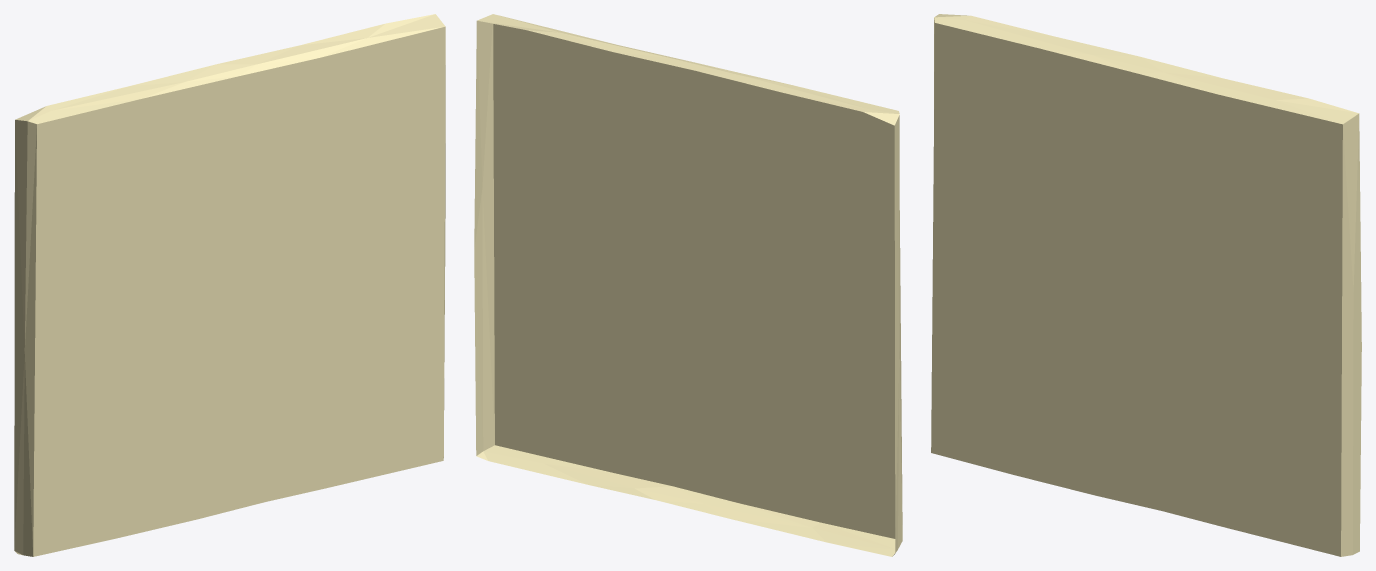
File: ui_button_slim_1x1.glb
The picture shows the model from 3 angles, left to right: view 1: azimuth 30°, elevation 25°; view 2: azimuth 150°, elevation 25°; view 3: azimuth 330°, elevation 25°; orthographic projection.
Parts seen in each view (by area): view 1: Cube; view 2: Cube; view 3: Cube.
Part boxes in pixels (x1,y1,x2,y2): Cube: (14, 14, 445, 556); Cube: (474, 14, 902, 556); Cube: (931, 14, 1361, 556).
Bounding box in the file's own units: 1.99 × 1.99 × 0.1075.
